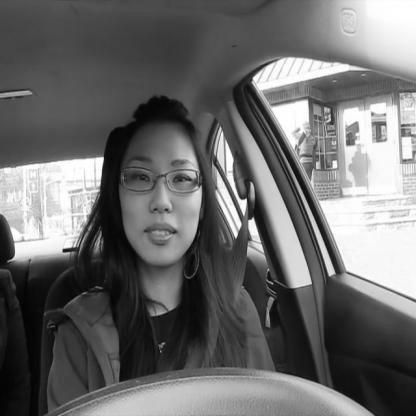seatbelt: (98, 83, 259, 416)
